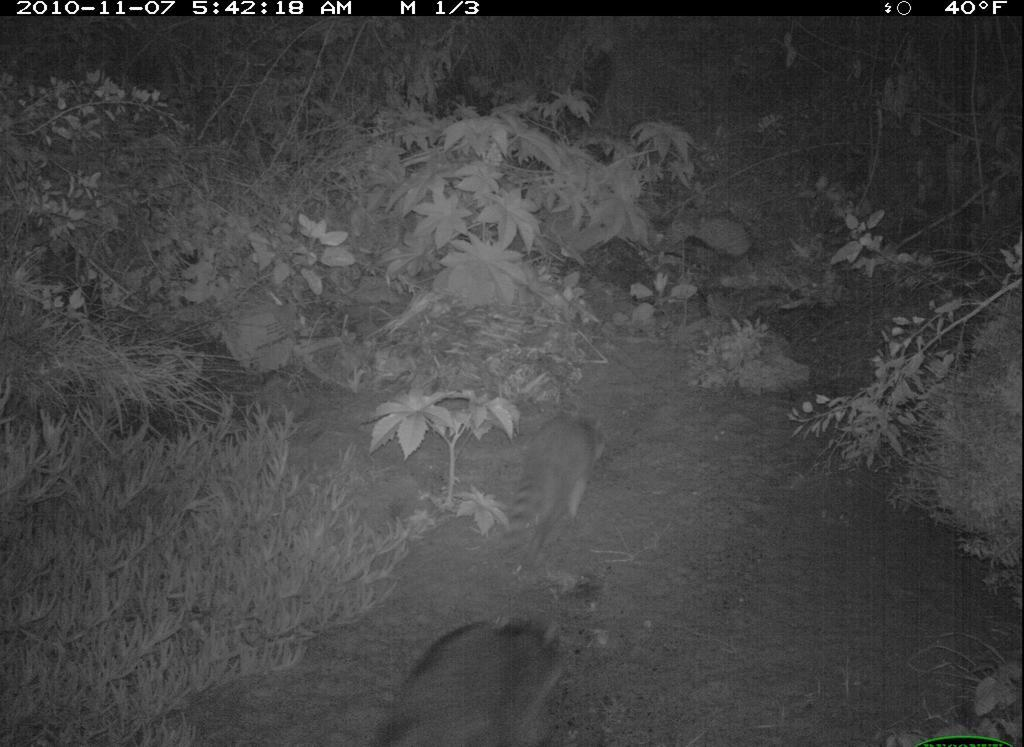raccoon: (363, 606, 606, 747), (495, 405, 616, 577)
